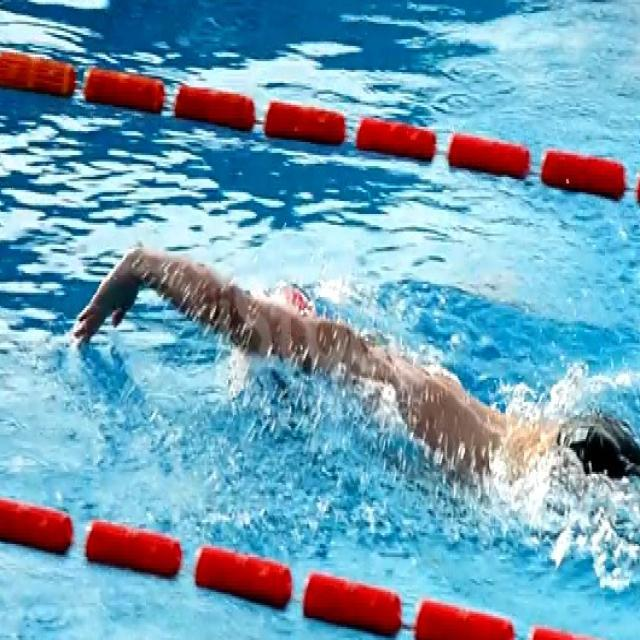Swimming: (71, 246, 640, 523)
